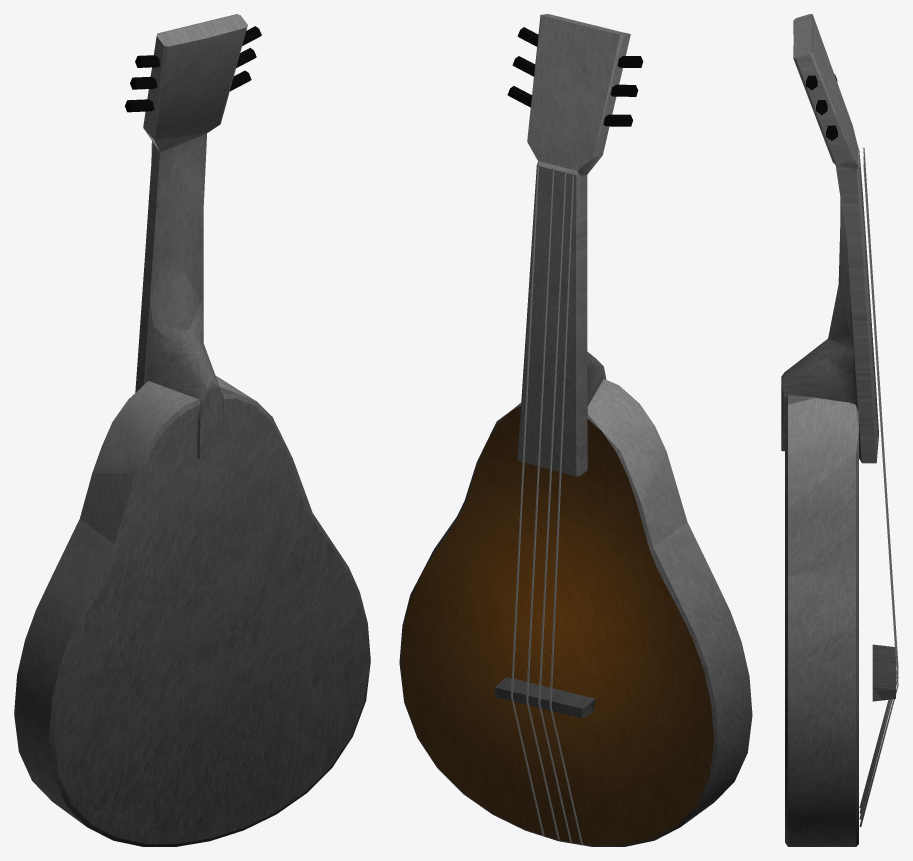
File: AIR0210014.fbx
3 renders of one model, left to right at view 1: azimuth 30°, elevation 25°; view 2: azimuth 150°, elevation 25°; view 3: azimuth 270°, elevation 25°, orthographic. The views are drawn at different scales.
Visible parts, largest first — view 1: smAIR0210014; view 2: smAIR0210014; view 3: smAIR0210014.
Part boxes in pixels (left/top/right/bottom): smAIR0210014: left=14, top=14, right=370, bottom=846; smAIR0210014: left=399, top=14, right=752, bottom=846; smAIR0210014: left=781, top=14, right=898, bottom=846.
Bounding box in the file's own units: 48.42 × 116 × 15.58.
Materials: 1 (1 with a texture image).
